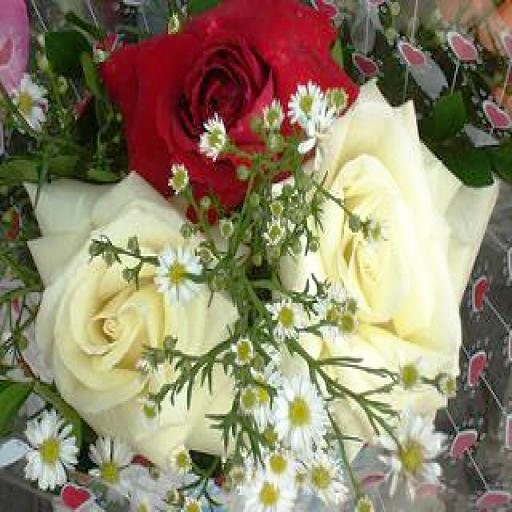rose: (270, 83, 501, 380), (26, 181, 246, 465)
